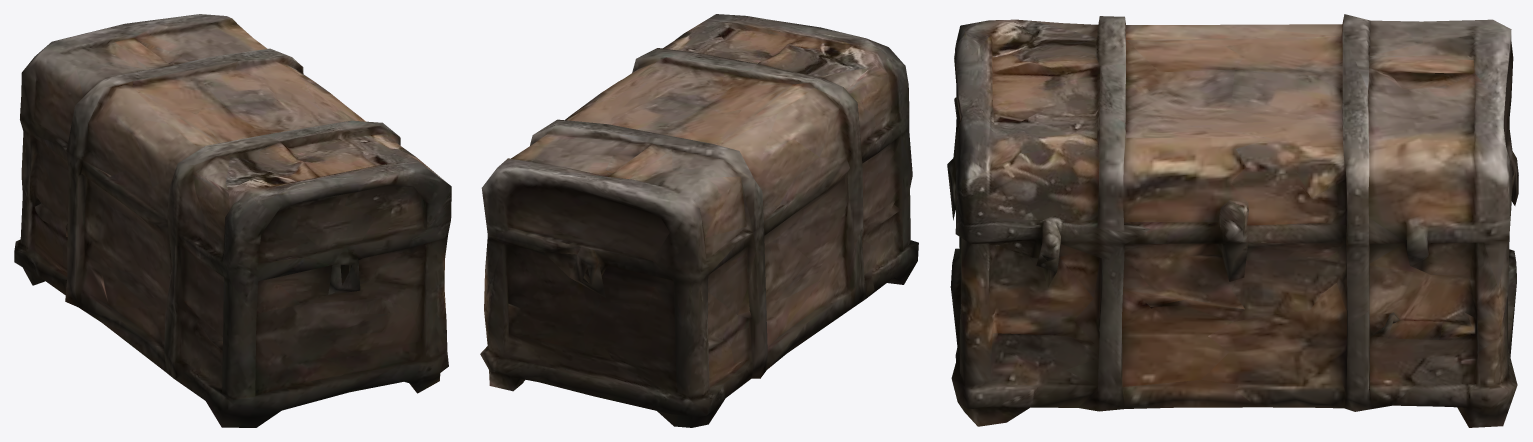
File: e_chest.glb
The picture shows the model from 3 angles, left to right: view 1: azimuth 30°, elevation 25°; view 2: azimuth 150°, elevation 25°; view 3: azimuth 270°, elevation 25°; orthographic projection. The views are drawn at different scales.
Visible parts, largest first — view 1: tripo_node_fba31040-b145-41d3-98b7-6106fad93124; view 2: tripo_node_fba31040-b145-41d3-98b7-6106fad93124; view 3: tripo_node_fba31040-b145-41d3-98b7-6106fad93124.
Part boxes in pixels (<box>): tripo_node_fba31040-b145-41d3-98b7-6106fad93124: <box>14,14,451,427</box>; tripo_node_fba31040-b145-41d3-98b7-6106fad93124: <box>480,14,918,427</box>; tripo_node_fba31040-b145-41d3-98b7-6106fad93124: <box>947,14,1518,427</box>.
Size of the model in its own units: 0.6109 by 0.5792 by 1.
Materials: 1 (1 with a texture image).
